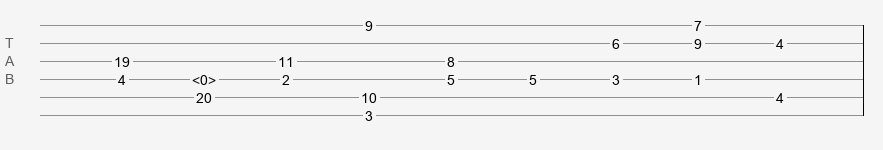1: (694, 72, 702, 82)
10: (361, 90, 377, 100)
11: (278, 54, 294, 64)
19: (114, 54, 130, 64)
2: (282, 72, 290, 82)
20: (196, 90, 212, 100)
3: (365, 108, 373, 118), (612, 72, 620, 82)
4: (118, 72, 126, 82), (776, 36, 784, 46), (776, 90, 784, 100)
5: (447, 72, 455, 82), (529, 72, 537, 82)
6: (612, 36, 620, 46)
7: (694, 18, 702, 28)
8: (447, 54, 455, 64)
9: (365, 18, 373, 28), (694, 36, 702, 46)
harmonic: (192, 72, 216, 82)
